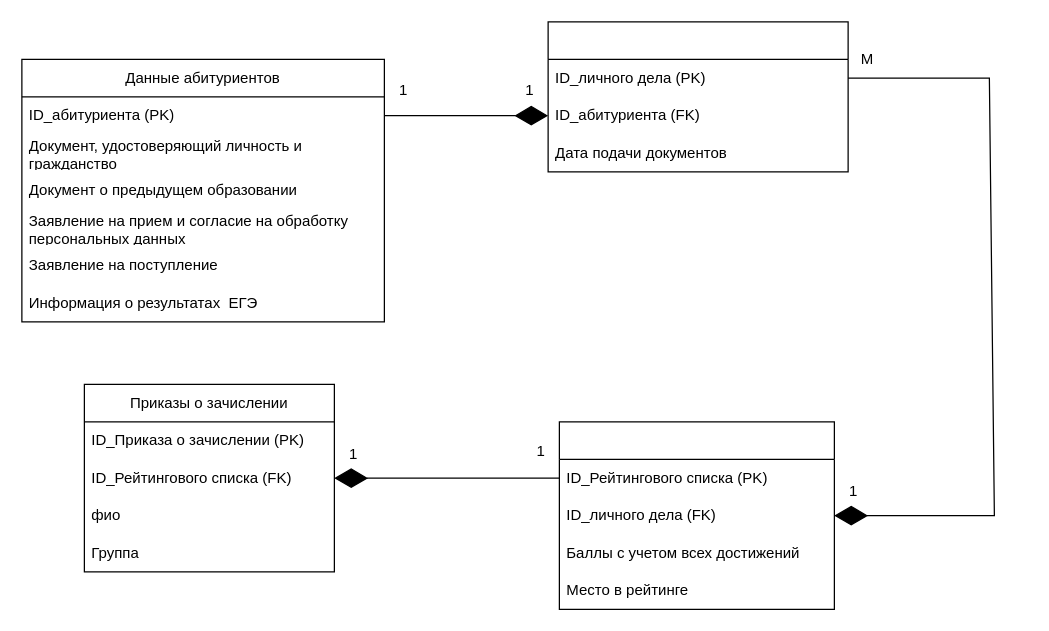
Image size: 1049x631. Some labels were removed from this diagram. Here are the shapes that lost their labels. From the top down, the box of each, then its label:
(547, 21, 848, 172): Личное дело
(558, 421, 834, 609): Рейтинговые списки абитуриентов
